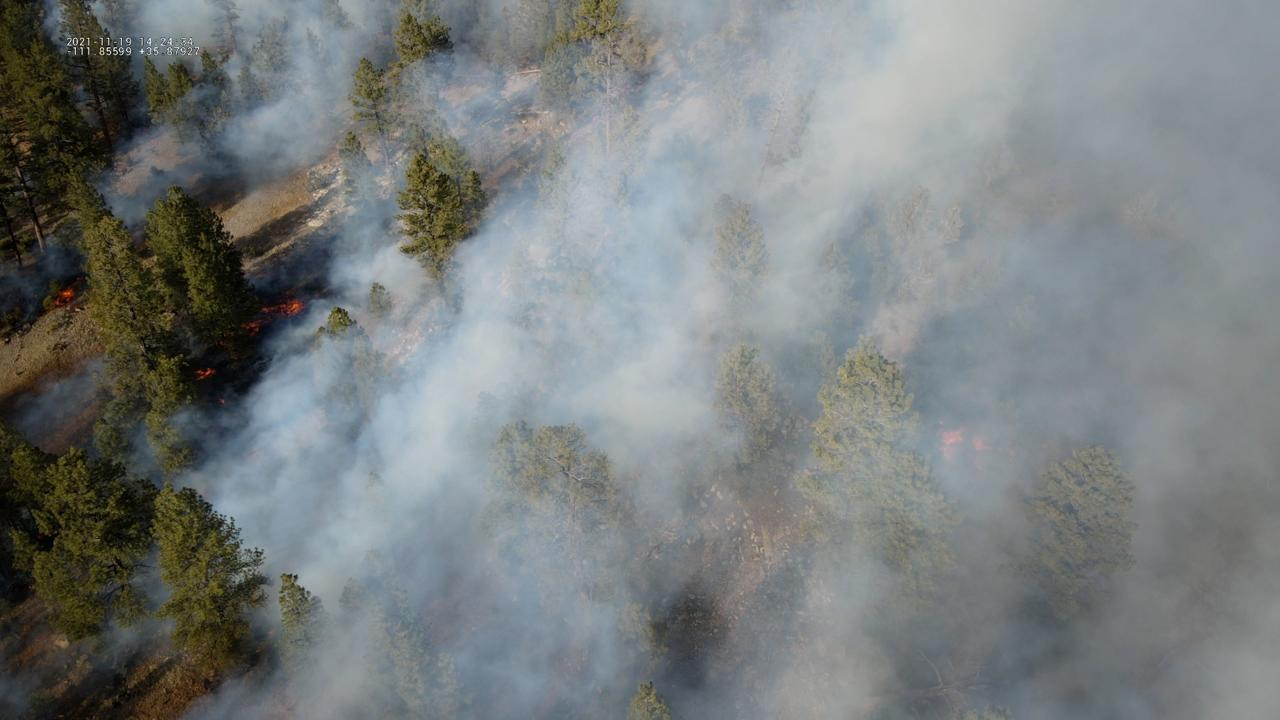fire: (941, 424, 965, 461), (259, 299, 306, 317), (235, 317, 265, 337), (50, 286, 74, 308), (970, 430, 990, 452), (192, 365, 216, 382)
smoke: (0, 0, 1280, 720)
